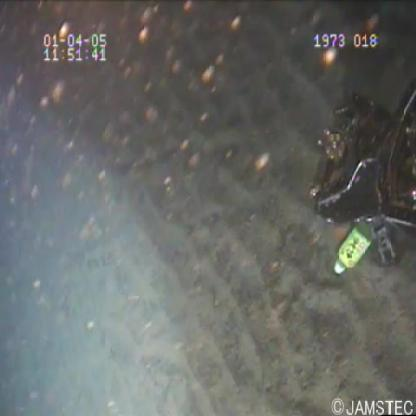Rov: (307, 72, 416, 268)
Rác: (331, 223, 372, 281)
